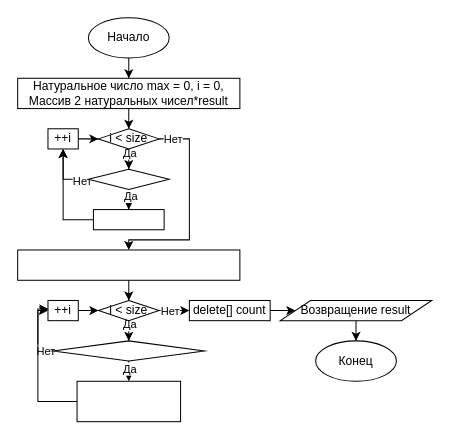
The diagram is 449 pixels wide and 440 high, and some of its shapes have lost their labels. The shapes that lost their labels are listed below. From the top down, each one's box as (x1, y1, x2, y2) in pixels, then its label:
(87, 168, 169, 189): arr[i] > max
(92, 209, 164, 230): max = arr[i]
(17, 249, 240, 280): Массив max натуральных чисел count i = 0, max = 0
(52, 340, 205, 361): ++count[arr[i]] > max
(76, 380, 181, 422): max = count[arr[i]] result[0] = arr[i] result[1] = max
